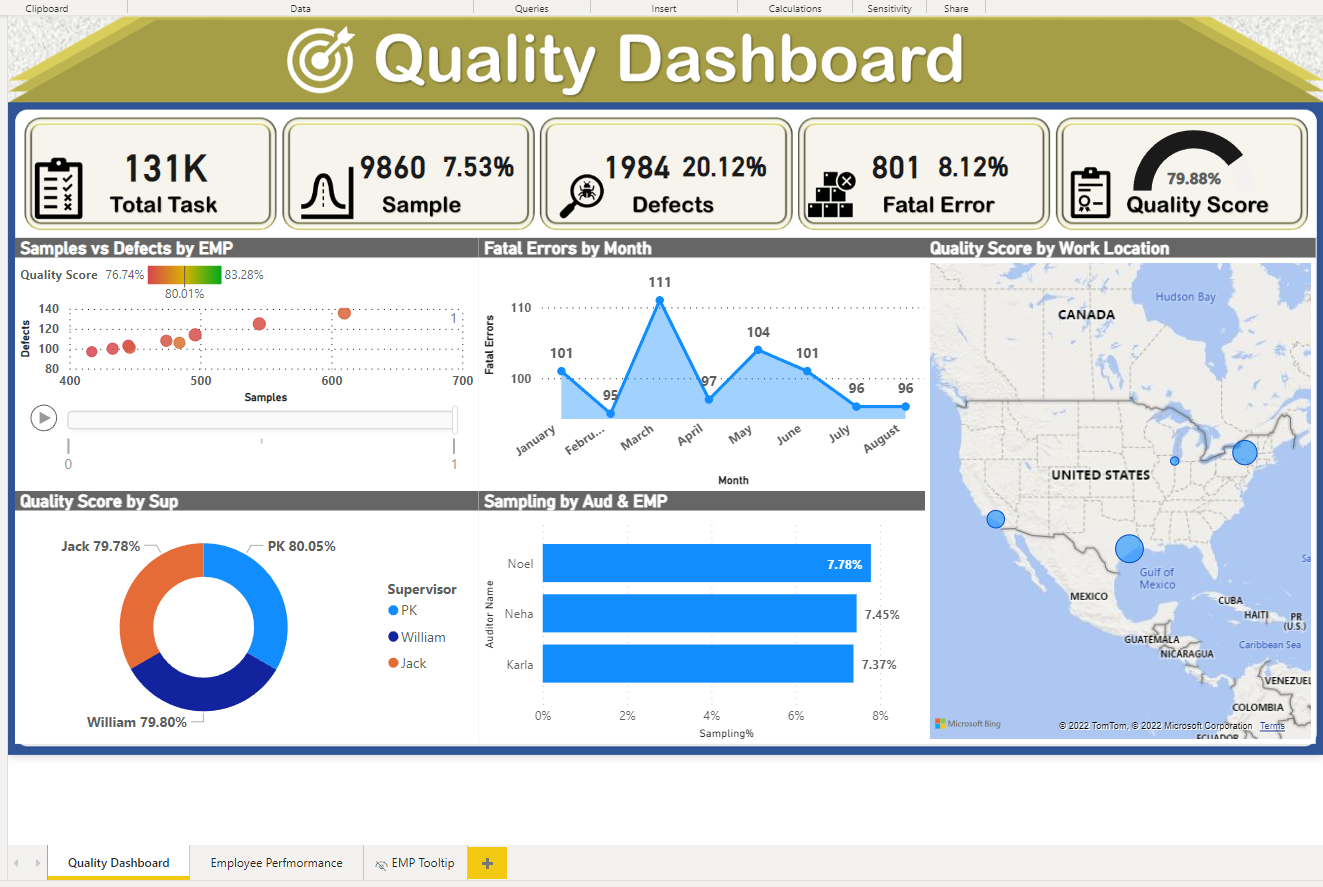

What the dashboard file says about the page in this screenshot:
{"tool":"powerbi","page":{"name":"Quality Dashboard","canvas":[1280,720],"ordinal":0},"visuals":[{"type":"card","fields":{"Values":["Quality Data.Total Task"]},"box":[76.8,100.2,150.8,91.4],"z":0},{"type":"card","fields":{"Values":["Quality Data.Samples"]},"box":[298.6,100.2,150.8,91.4],"z":1000},{"type":"card","fields":{"Values":["Quality Data.Sampling%"]},"box":[407.5,100.2,100.2,91.4],"z":2000},{"type":"card","fields":{"Values":["Quality Data.Defects"]},"box":[535.9,100.2,150.8,91.4],"z":3000},{"type":"card","fields":{"Values":["Quality Data.Defect%"]},"box":[646.8,100.2,100.2,91.4],"z":4000},{"type":"card","fields":{"Values":["Quality Data.Fatel Errors"]},"box":[788.8,100.2,150.8,91.4],"z":5000},{"type":"card","fields":{"Values":["Quality Data.Fatal Error%"]},"box":[889,100.2,100.2,91.4],"z":6000},{"type":"gauge","fields":{"Y":["Quality Data.Quality Score"]},"box":[1062.1,107,182.9,69.1],"z":7000},{"type":"scatterChart","title":"Samples vs Defects by EMP","fields":{"Y":["Quality Data.Defects"],"X":["Quality Data.Samples"],"Category":["Emp Master.EMP Name"],"Size":["Quality Data.Fatel Errors"],"Play":["Quality Data.Fatal Errors"]},"box":[6.8,216.9,451.3,246.1],"z":8000},{"type":"areaChart","title":"Fatal Errors by Month","fields":{"Category":["Quality Data.Date.Variation.Date Hierarchy.Year","Quality Data.Date.Variation.Date Hierarchy.Quarter","Quality Data.Date.Variation.Date Hierarchy.Month","Quality Data.Date.Variation.Date Hierarchy.Day"],"Y":["Quality Data.Fatel Errors"]},"box":[458.1,216.9,438.7,246.1],"z":9000},{"type":"donutChart","title":"Quality Score by Sup","fields":{"Category":["Emp Master.Supervisor"],"Y":["Quality Data.Quality Score"]},"box":[6.8,463,451.3,246.1],"z":10000},{"type":"clusteredBarChart","title":"Sampling by Aud & EMP","fields":{"Category":["Auditors.Auditor Name","Emp Master.EMP Name"],"Y":["Quality Data.Sampling%"]},"box":[458.1,463,433.8,246.1],"z":11000},{"type":"map","fields":{"Category":["Emp Master.Work Location"],"Size":["Quality Data.Quality Score"]},"box":[891.9,216.9,380.3,492.2],"z":12000}]}

Visuals, with their boxes on the page's 1280x720 design canvas (x1, y1, x2, y2). These are canvas units, not pixel positions in the 1323x887 screenshot, which may show the page scaled, cropped or inside an application window:
card - Quality Data.Total Task: BBox(77, 100, 228, 192)
card - Quality Data.Samples: BBox(299, 100, 449, 192)
card - Quality Data.Sampling%: BBox(408, 100, 508, 192)
card - Quality Data.Defects: BBox(536, 100, 687, 192)
card - Quality Data.Defect%: BBox(647, 100, 747, 192)
card - Quality Data.Fatel Errors: BBox(789, 100, 940, 192)
card - Quality Data.Fatal Error%: BBox(889, 100, 989, 192)
gauge - Quality Data.Quality Score: BBox(1062, 107, 1245, 176)
"Samples vs Defects by EMP" scatterChart: BBox(7, 217, 458, 463)
"Fatal Errors by Month" areaChart: BBox(458, 217, 897, 463)
"Quality Score by Sup" donutChart: BBox(7, 463, 458, 709)
"Sampling by Aud & EMP" clusteredBarChart: BBox(458, 463, 892, 709)
map - Emp Master.Work Location x Quality Data.Quality Score: BBox(892, 217, 1272, 709)
